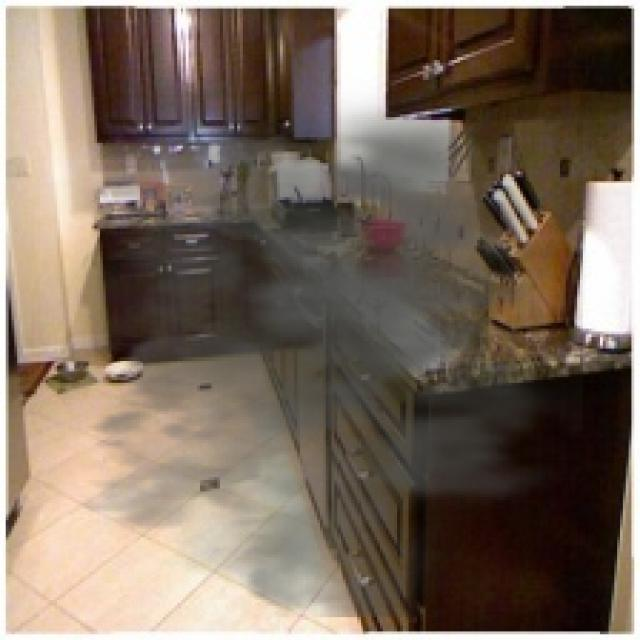Smoke: (28, 77, 583, 617)
